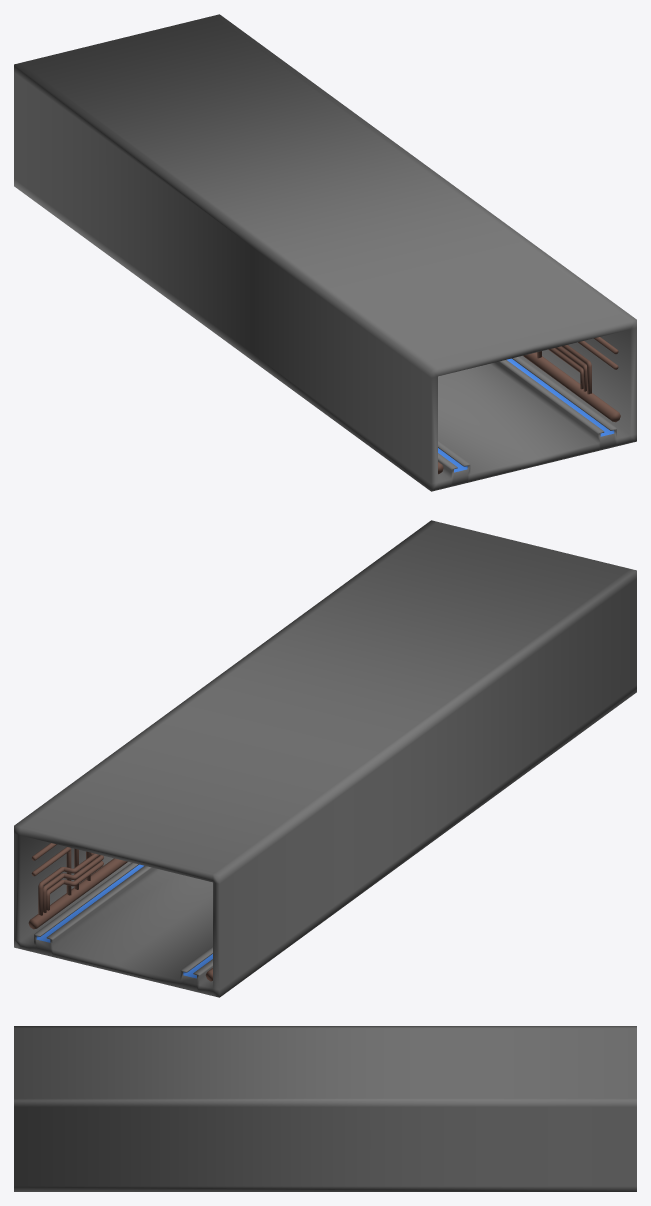
Rendered from [poo]_St2_Base_New.fbx.
3 renders of one model, top to bottom at view 1: azimuth 30°, elevation 25°; view 2: azimuth 150°, elevation 25°; view 3: azimuth 270°, elevation 25°, orthographic. The views are drawn at different scales.
Visible parts, largest first — view 1: STAGE2_Base, Cylinder.013; view 2: STAGE2_Base, Cylinder.013; view 3: STAGE2_Base.
Part boxes in pixels (x1,y1,x2,y2): STAGE2_Base: (14, 14, 636, 491); Cylinder.013: (523, 352, 620, 422); STAGE2_Base: (14, 520, 636, 997); Cylinder.013: (28, 858, 127, 929); STAGE2_Base: (14, 1026, 636, 1191).
Bounding box in the file's own units: 2869 × 1624 × 10081.
